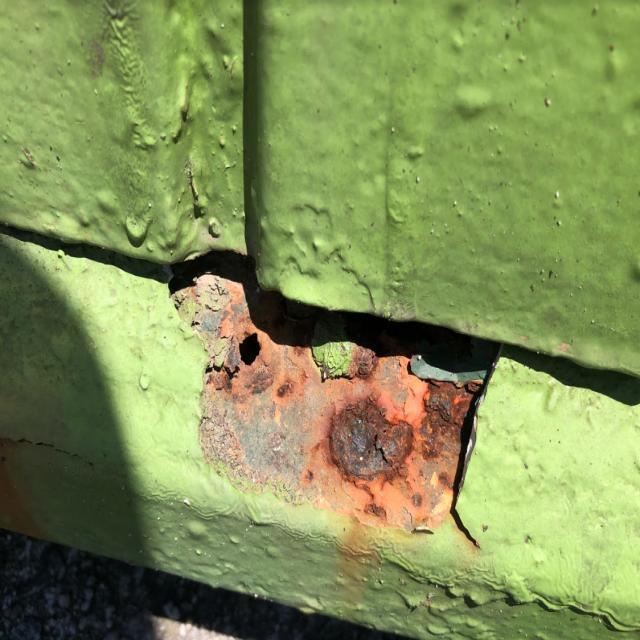Corrosion: (0, 0, 639, 638), (168, 267, 487, 536)
